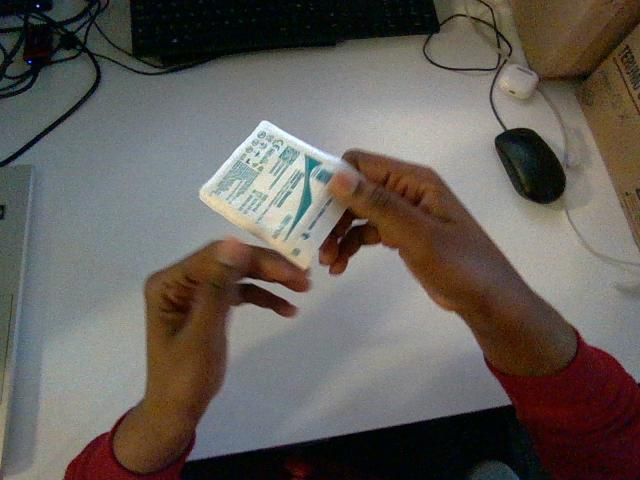gauze: (200, 121, 354, 268)
